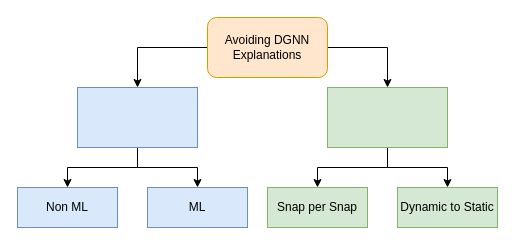
Some shapes in this 515 by 245 pixel diagram are drawn without their labels. Each missing label, with the centre of its shape:
"Graph features extraction" goes at pixel 137 117.
"Static GNN Explainer" goes at pixel 387 117.
